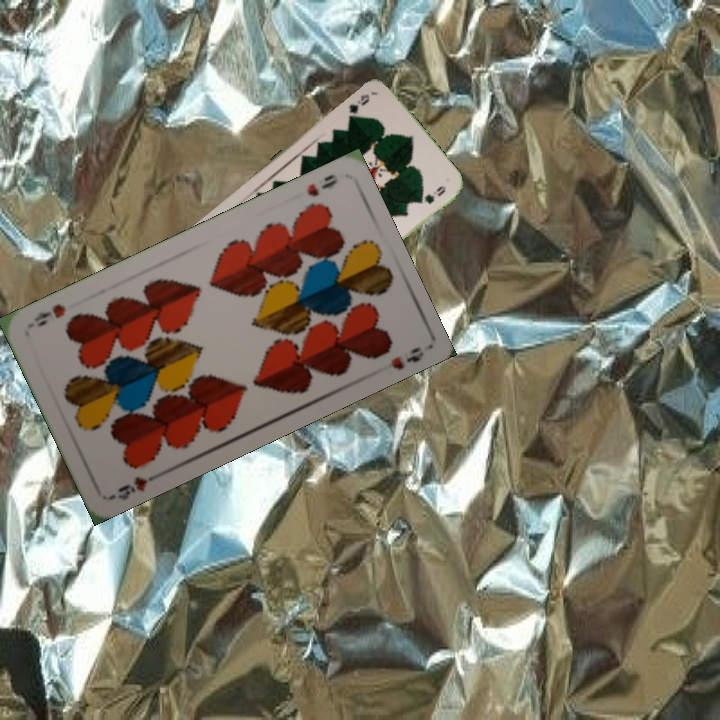G9: (344, 90, 372, 123)
H9: (114, 468, 164, 503), (302, 170, 341, 199)
